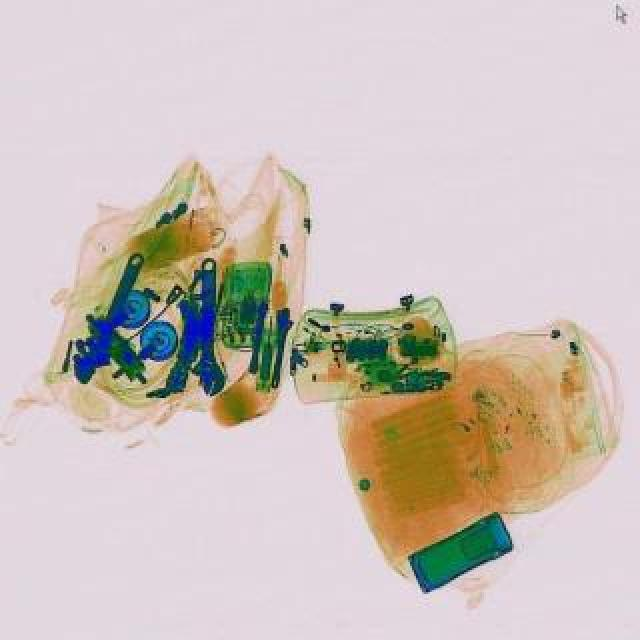scissors: (64, 246, 156, 388), (192, 256, 224, 396), (264, 306, 294, 388)
